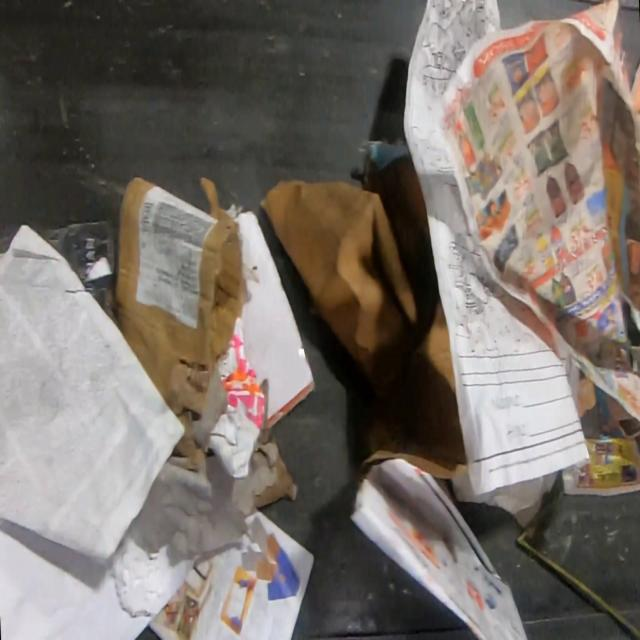cardboard: (258, 153, 468, 479), (115, 175, 248, 430)
